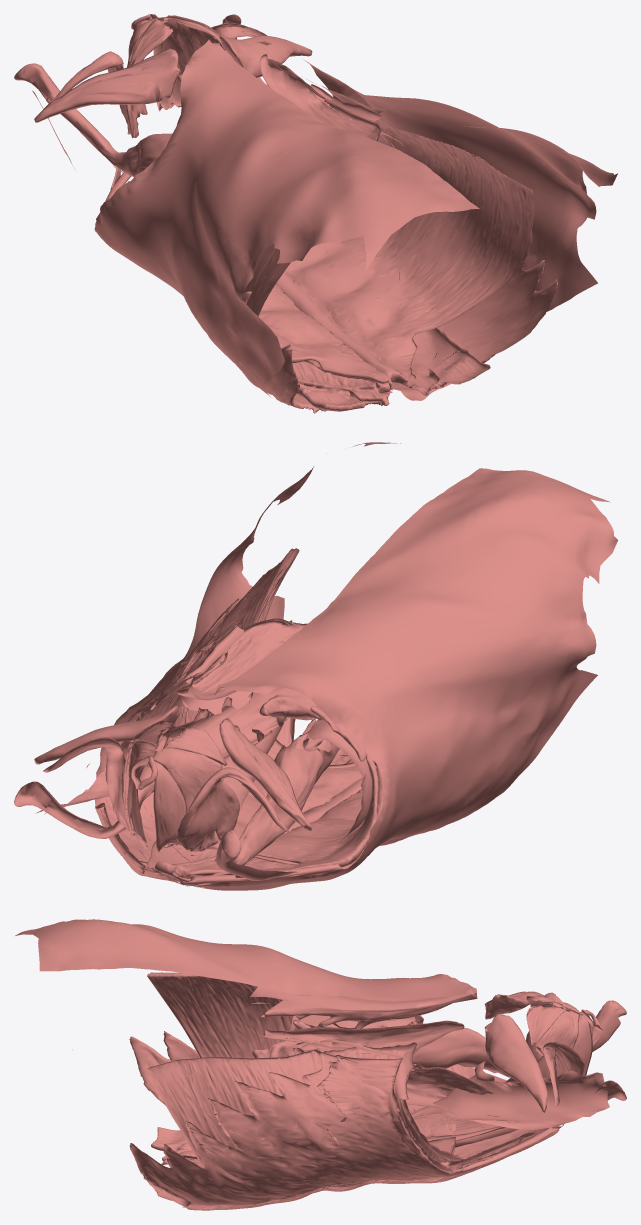
The model's file is abdomen__muscular.f0bde236d7.glb.
3 renders of one model, top to bottom at view 1: azimuth 30°, elevation 25°; view 2: azimuth 150°, elevation 25°; view 3: azimuth 270°, elevation 25°, orthographic. The views are drawn at different scales.
Visible parts, largest first — view 1: Investing abdominal fascia.r, Transversus abdominis muscle.l, Investing abdominal fascia.l, External abdominal oblique muscle.l, Transversus abdominis muscle.r, Piriformis muscle.r, Psoas major.r, Rectus abdominis muscle.l, Quadratus lumborum muscle.l, Rectus abdominis muscle.r, Piriformis fascia.l, Linea alba (+6 smaller); view 2: Investing abdominal fascia.r, Transversus abdominis muscle.l, Transversus abdominis muscle.r, Psoas major.l, Investing abdominal fascia.l, Psoas major.r, Obturator internus.r, Quadratus lumborum muscle.l, Piriformis muscle.r, Transversalis fascia, Iliococcygeus muscle.r, Pubo-analis muscle.r (+17 smaller); view 3: External abdominal oblique muscle.l, Investing abdominal fascia.r, Transversus abdominis muscle.l, Transversus abdominis muscle.r, Iliopsoas fascia.l, Quadratus lumborum muscle.l, Internal abdominal oblique muscle.l, Psoas major.l, Piriformis fascia.l, Iliopsoas fascia.r, Posterior layer of thoracolumbar fascia.r, Quadratus lumborum muscle.r (+14 smaller).
Boxes of the visible parts, x1=… form: Investing abdominal fascia.r: x1=94, y1=40, x2=479, y2=396; Transversus abdominis muscle.l: x1=284, y1=84, x2=534, y2=377; Investing abdominal fascia.l: x1=218, y1=41, x2=617, y2=400; External abdominal oblique muscle.l: x1=353, y1=112, x2=557, y2=395; Transversus abdominis muscle.r: x1=95, y1=223, x2=388, y2=383; Piriformis muscle.r: x1=34, y1=48, x2=179, y2=122; Psoas major.r: x1=14, y1=63, x2=171, y2=176; Rectus abdominis muscle.l: x1=401, y1=328, x2=490, y2=390; Quadratus lumborum muscle.l: x1=259, y1=54, x2=380, y2=141; Rectus abdominis muscle.r: x1=292, y1=361, x2=390, y2=411; Piriformis fascia.l: x1=219, y1=35, x2=312, y2=77; Linea alba: x1=276, y1=272, x2=408, y2=390; Investing abdominal fascia.r: x1=165, y1=468, x2=617, y2=890; Transversus abdominis muscle.l: x1=95, y1=548, x2=362, y2=876; Transversus abdominis muscle.r: x1=172, y1=706, x2=378, y2=881; Psoas major.l: x1=14, y1=692, x2=287, y2=838; Investing abdominal fascia.l: x1=95, y1=442, x2=401, y2=881; Psoas major.r: x1=216, y1=718, x2=332, y2=864; Obturator internus.r: x1=175, y1=767, x2=288, y2=851; Quadratus lumborum muscle.l: x1=177, y1=618, x2=307, y2=699; Piriformis muscle.r: x1=219, y1=718, x2=311, y2=830; Transversalis fascia: x1=171, y1=691, x2=372, y2=864; Iliococcygeus muscle.r: x1=153, y1=748, x2=222, y2=812; Pubo-analis muscle.r: x1=147, y1=761, x2=186, y2=851; External abdominal oblique muscle.l: x1=129, y1=1052, x2=537, y2=1209; Investing abdominal fascia.r: x1=15, y1=919, x2=477, y2=997; Transversus abdominis muscle.l: x1=147, y1=1042, x2=540, y2=1169; Transversus abdominis muscle.r: x1=147, y1=972, x2=508, y2=1159; Iliopsoas fascia.l: x1=411, y1=1060, x2=609, y2=1124; Quadratus lumborum muscle.l: x1=261, y1=1020, x2=464, y2=1053; Internal abdominal oblique muscle.l: x1=297, y1=1054, x2=525, y2=1192; Psoas major.l: x1=293, y1=1048, x2=626, y2=1129; Piriformis fascia.l: x1=484, y1=1014, x2=547, y2=1112; Iliopsoas fascia.r: x1=412, y1=1010, x2=620, y2=1077; Posterior layer of thoracolumbar fascia.r: x1=250, y1=987, x2=476, y2=1010; Quadratus lumborum muscle.r: x1=261, y1=1003, x2=451, y2=1028.
Bounding box in the file's own units: 331 × 249 × 602.
